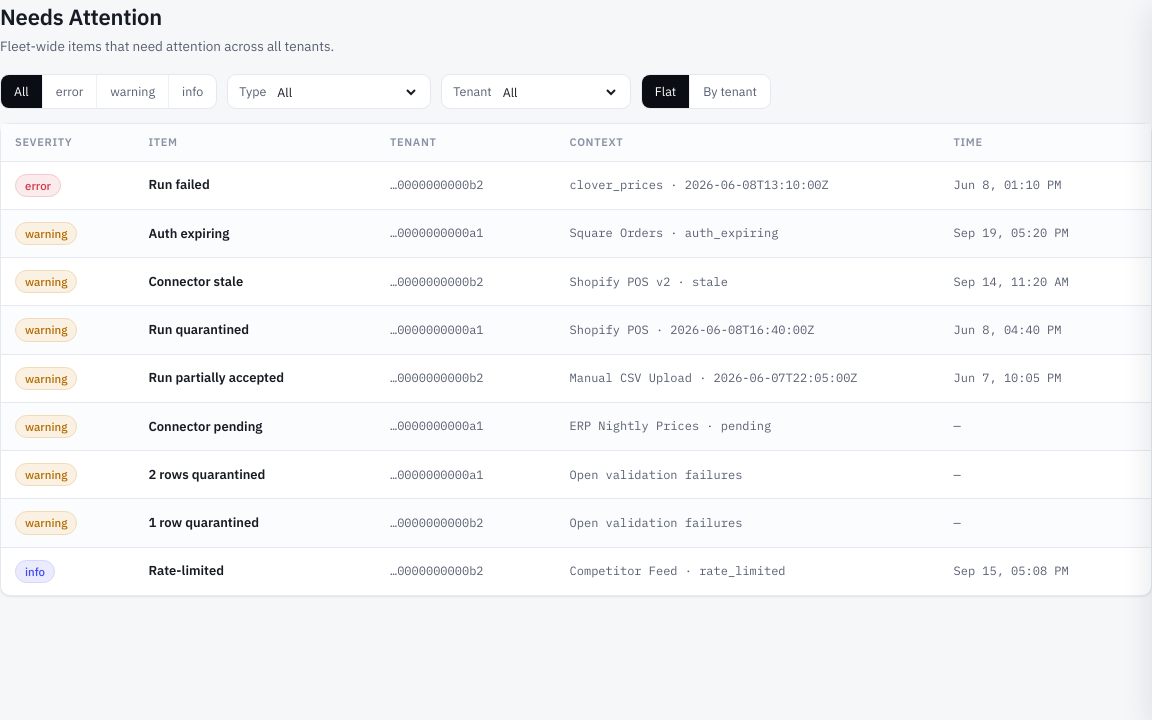
Test: Needs attention — PLATFORM (fixture mode): filterable triage › row-click still opens the shared drawer (action inside it), from the flat table
Expected: the heading "Needs Attention" is shown, x1=0 y1=2 x2=162 y2=31
Click the row that starts with "error": (576, 185) x1=1 y1=161 x2=1151 y2=209
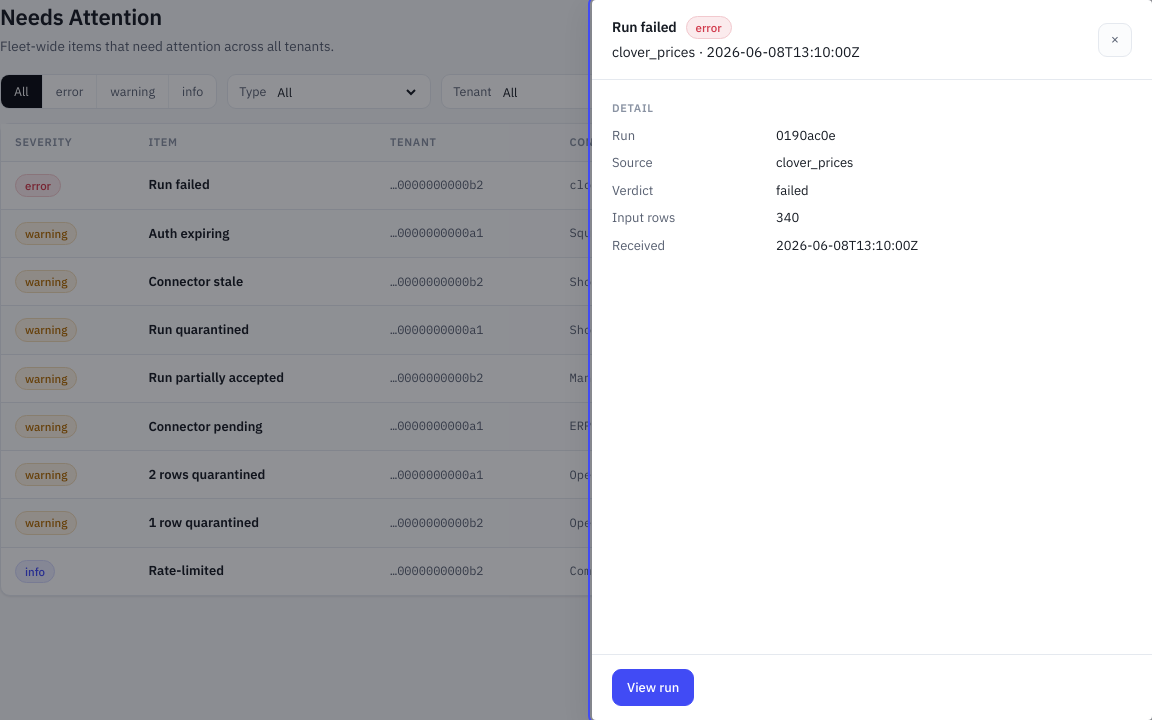
Expected: the link "View run" is shown, x1=612 y1=668 x2=694 y2=706
